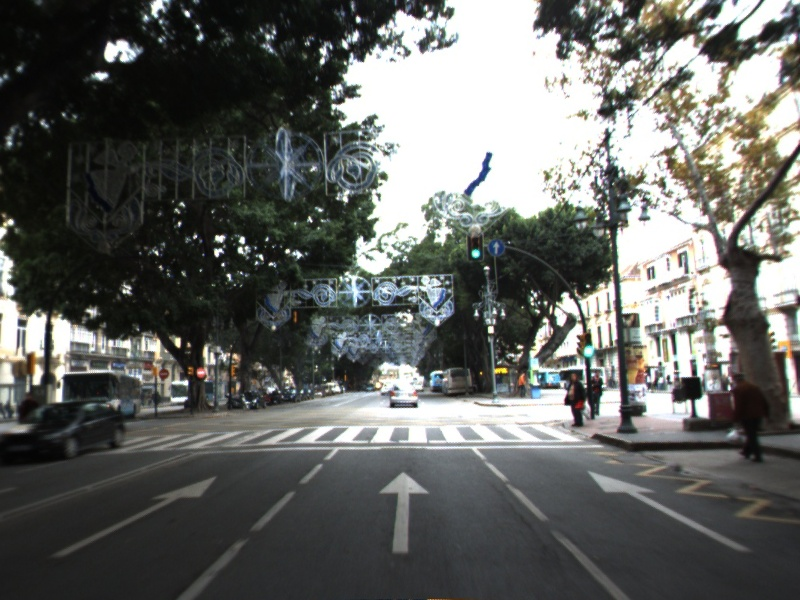STRAIGHT: (45, 473, 221, 561), (585, 468, 756, 555), (375, 468, 433, 556)
